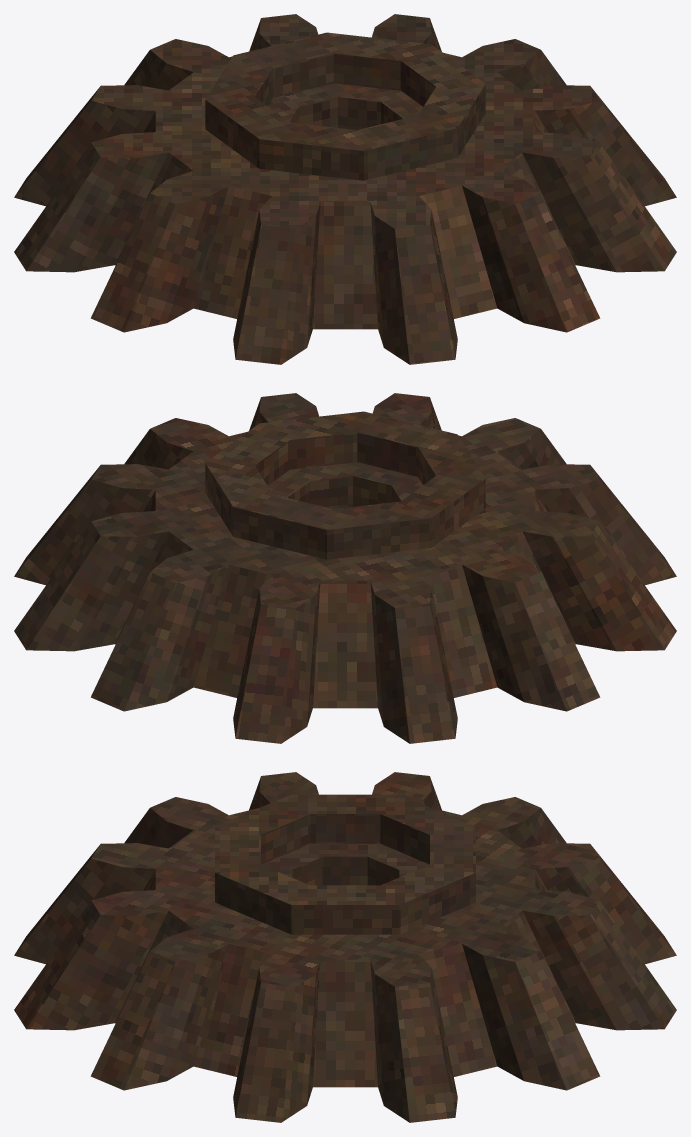
File: gear_mx_2.glb
The picture shows the model from 3 angles, top to bottom: view 1: azimuth 30°, elevation 25°; view 2: azimuth 150°, elevation 25°; view 3: azimuth 270°, elevation 25°; orthographic projection.
Visible parts, largest first — view 1: gear_mx_2; view 2: gear_mx_2; view 3: gear_mx_2.
Part boxes in pixels (bbox=[...]): gear_mx_2: bbox=[14, 14, 676, 364]; gear_mx_2: bbox=[14, 393, 676, 743]; gear_mx_2: bbox=[14, 772, 676, 1122].
Bounding box in the file's own units: 0.2023 × 0.0574 × 0.2023.
Materials: 1 (1 with a texture image).
